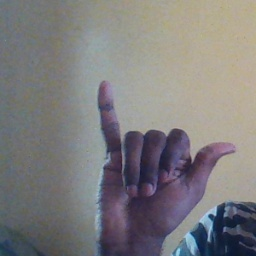J: (88, 78, 234, 233)
